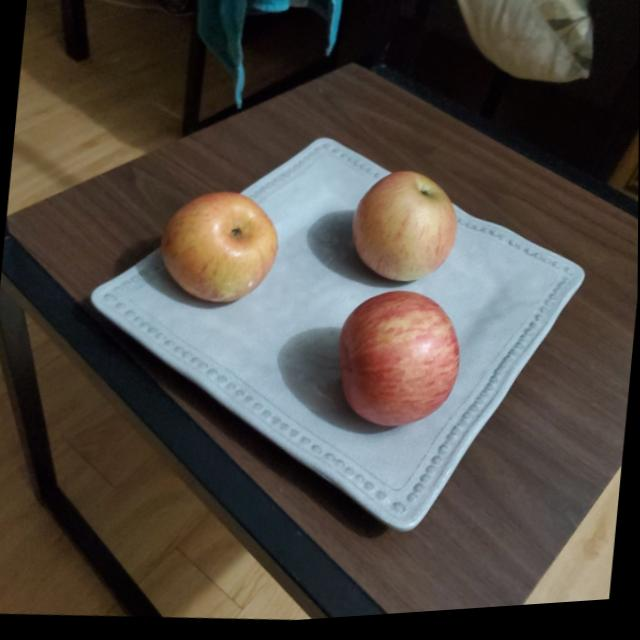apple: (333, 291, 470, 445), (157, 189, 281, 316), (349, 172, 464, 296)
